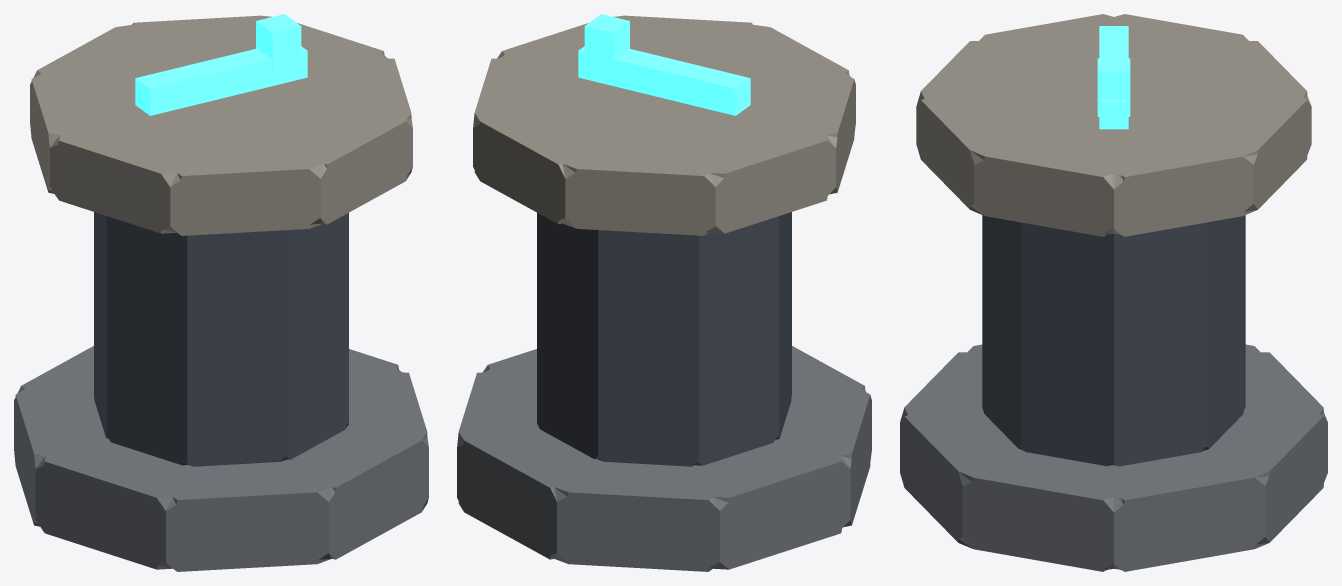
The model's file is wind_key_pedestal.glb.
3 views of the same model, side by side, from view 1: azimuth 30°, elevation 25°; view 2: azimuth 150°, elevation 25°; view 3: azimuth 270°, elevation 25° (orthographic).
Visible parts, largest first — view 1: wind_key_pedestal_Static, KeyShaft, KeyTooth; view 2: wind_key_pedestal_Static, KeyShaft, KeyTooth; view 3: wind_key_pedestal_Static, KeyShaft, KeyTooth.
Boxes of the visible parts, x1=… form: wind_key_pedestal_Static: x1=14, y1=15, x2=428, y2=571; KeyShaft: x1=135, y1=46, x2=307, y2=115; KeyTooth: x1=256, y1=14, x2=301, y2=77; wind_key_pedestal_Static: x1=457, y1=15, x2=871, y2=571; KeyShaft: x1=578, y1=46, x2=750, y2=115; KeyTooth: x1=584, y1=14, x2=629, y2=77; wind_key_pedestal_Static: x1=900, y1=14, x2=1327, y2=571; KeyShaft: x1=1099, y1=26, x2=1128, y2=129; KeyTooth: x1=1097, y1=58, x2=1130, y2=116.
Bounding box in the file's own units: 1.3 × 1.5 × 1.3.
